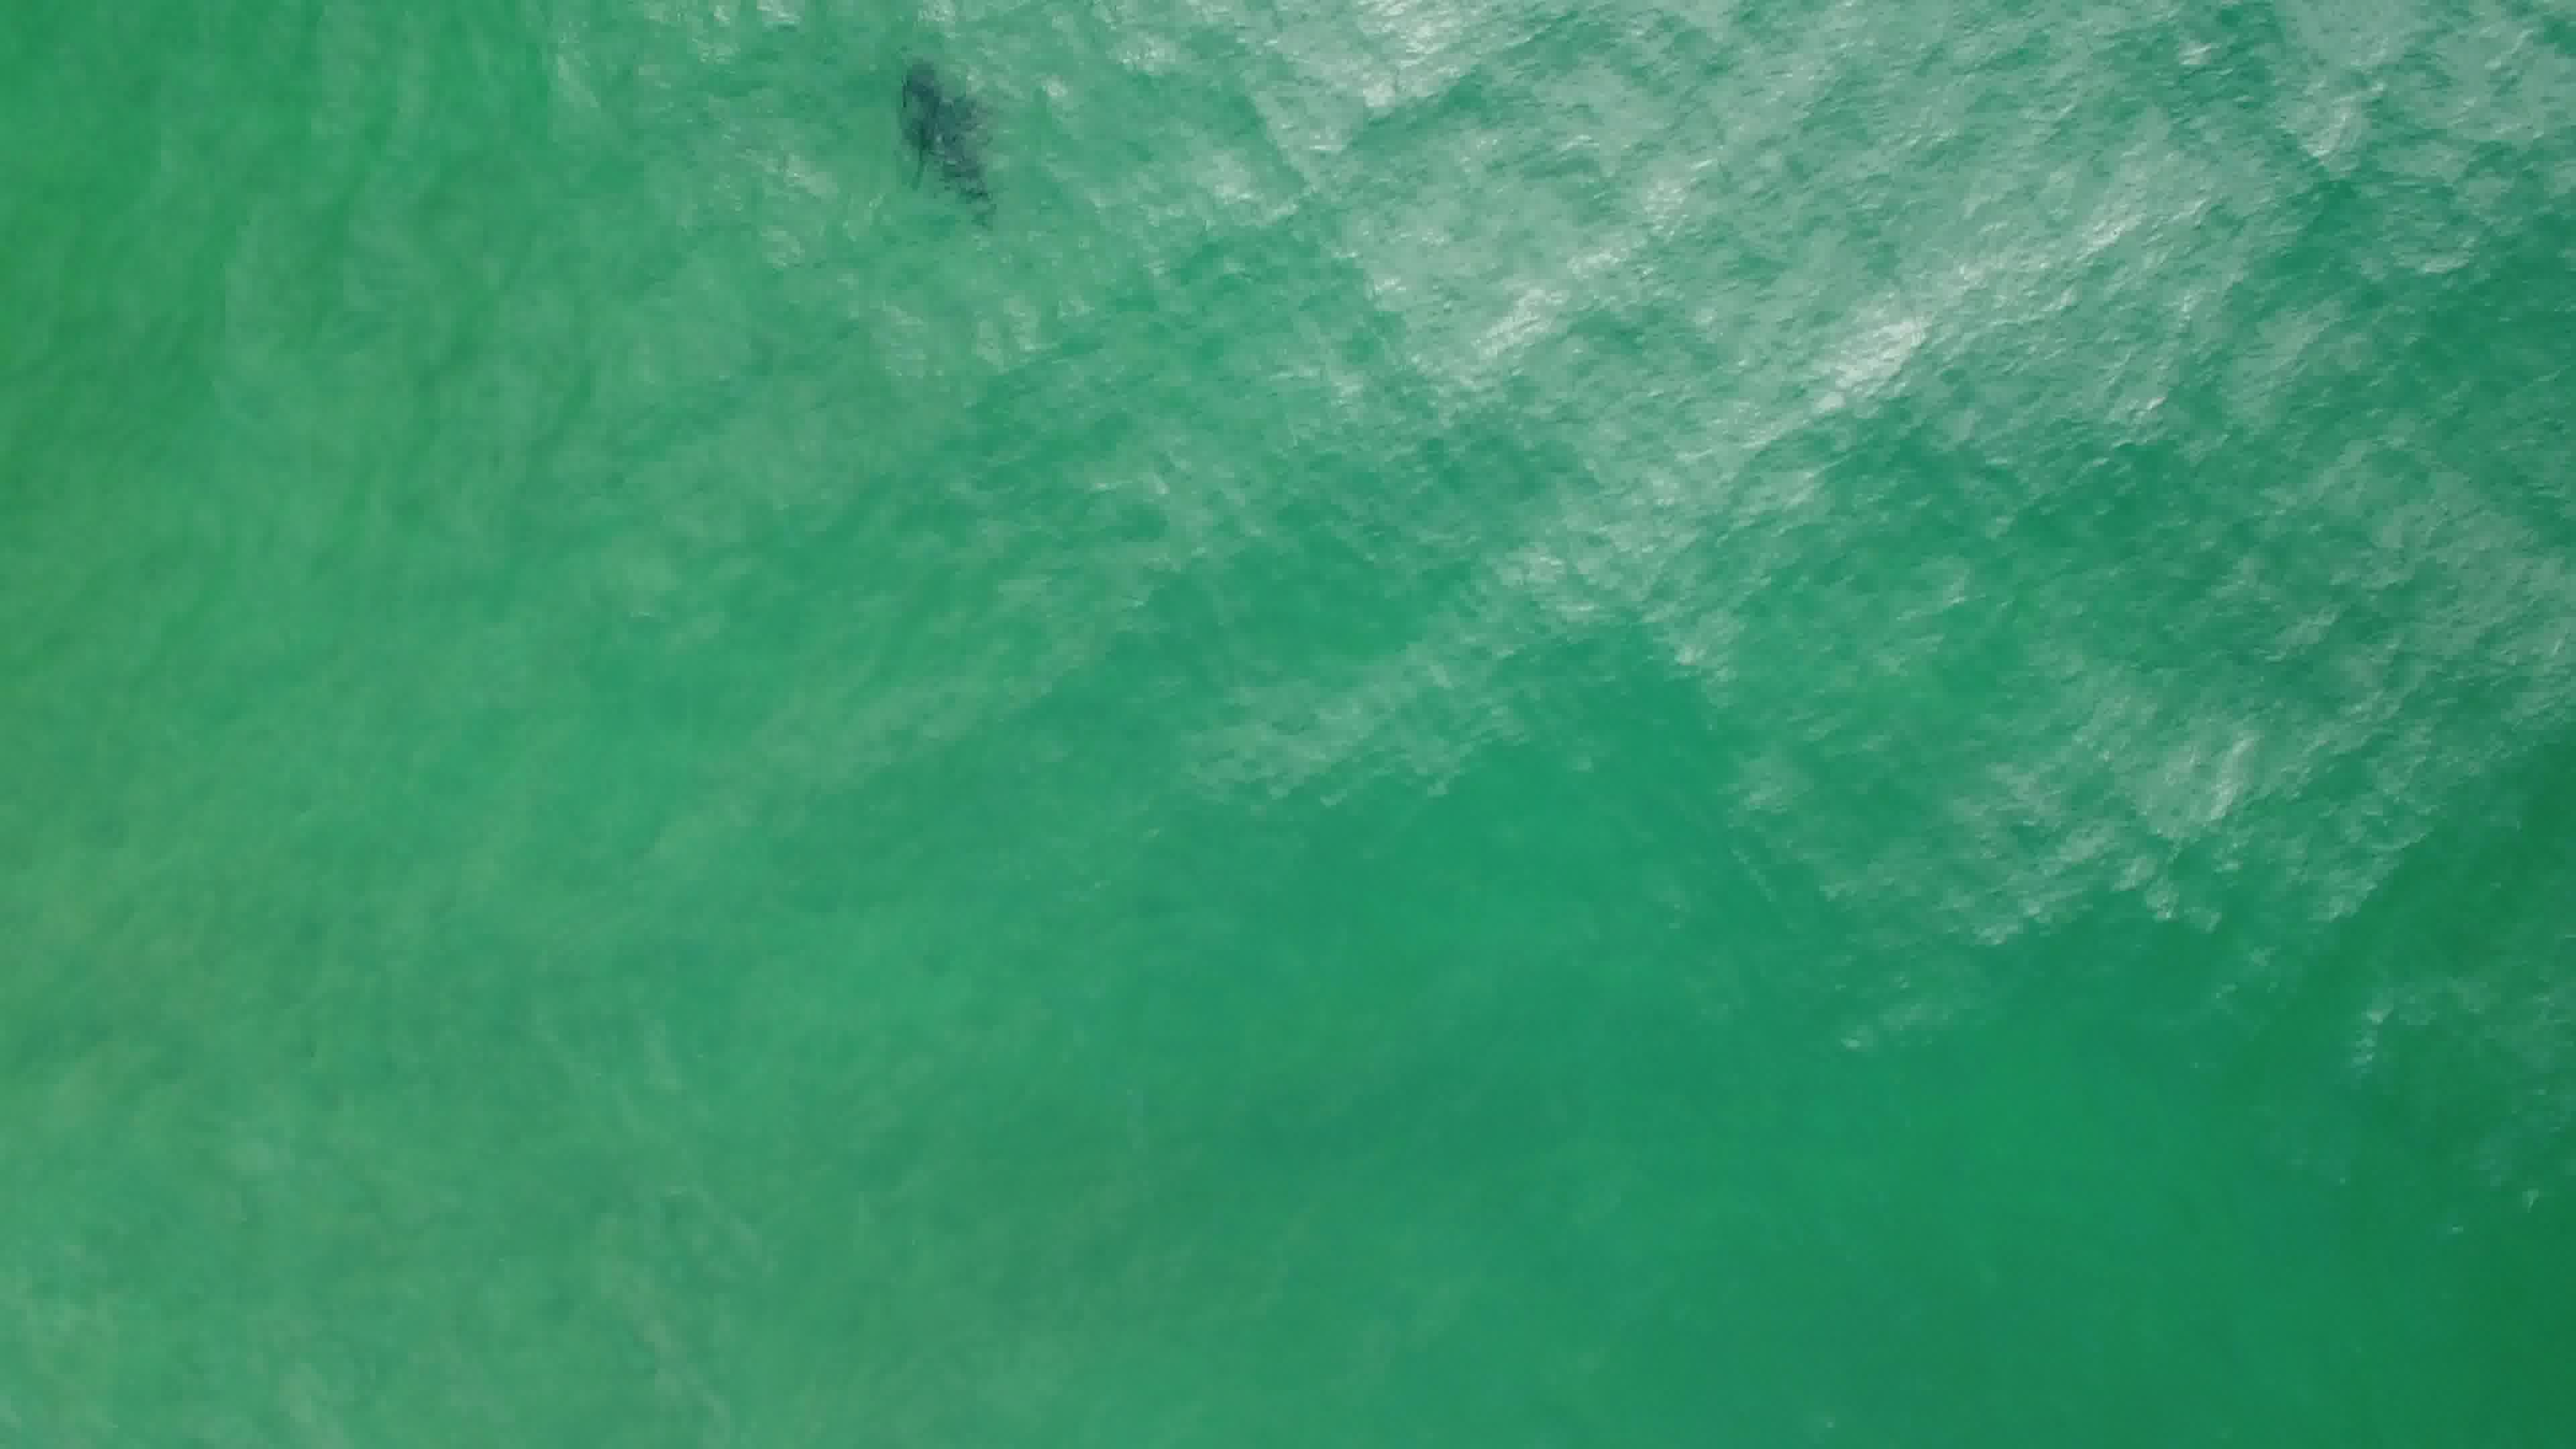shark: (879, 60, 1012, 237)
